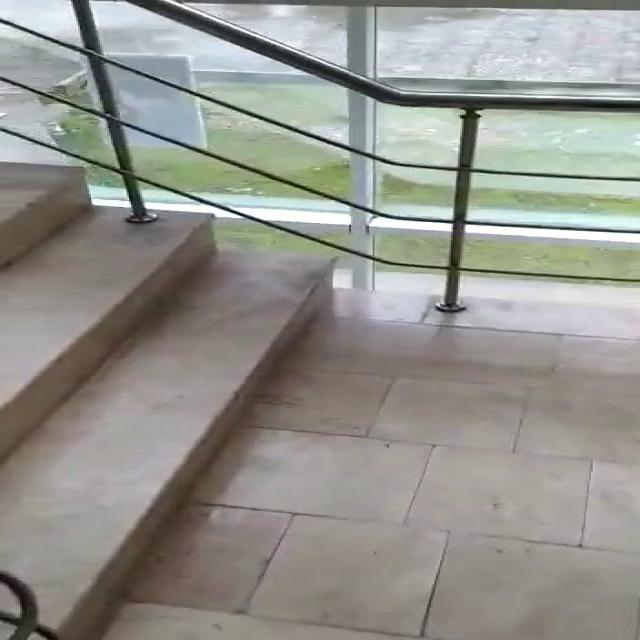stairs: (0, 158, 340, 639)
